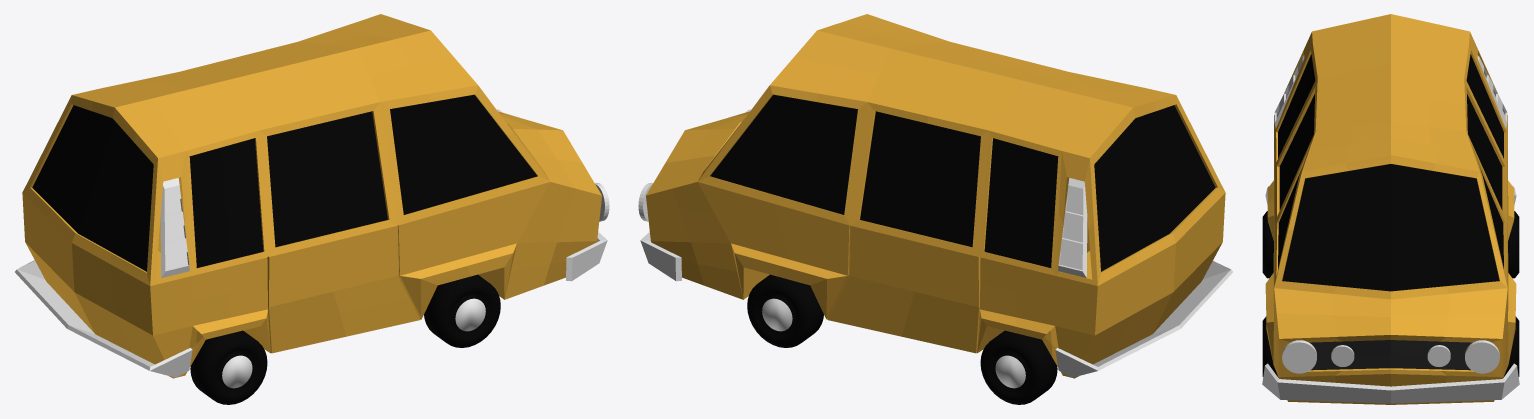
The model's file is Player.fbx.
The picture shows the model from 3 angles, left to right: view 1: azimuth 30°, elevation 25°; view 2: azimuth 150°, elevation 25°; view 3: azimuth 270°, elevation 25°; orthographic projection. The views are drawn at different scales.
Visible parts, largest first — view 1: Cube; view 2: Cube; view 3: Cube.
Part boxes in pixels (box(x1,y1,x2,y2)): Cube: box(15, 14, 609, 404); Cube: box(638, 14, 1232, 404); Cube: box(1262, 14, 1519, 404).
Bounding box in the file's own units: 985 × 493 × 484.
